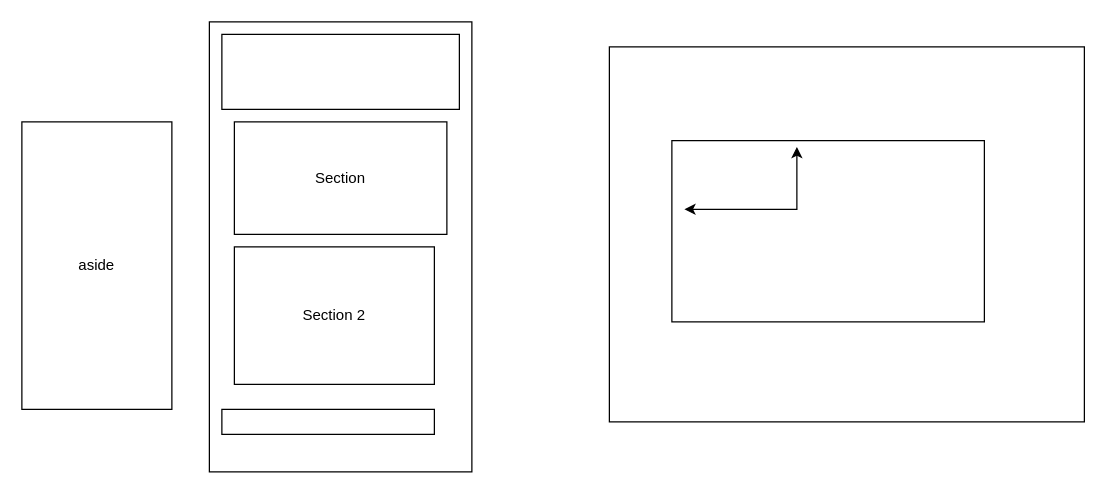
This 1106x494 diagram has some shape labels left out. The box of each missing label's shape, as (x1, y1, x2, y2) in pixels:
Footer: (221, 408, 434, 434)
HELLO WORLD: (671, 139, 984, 322)
